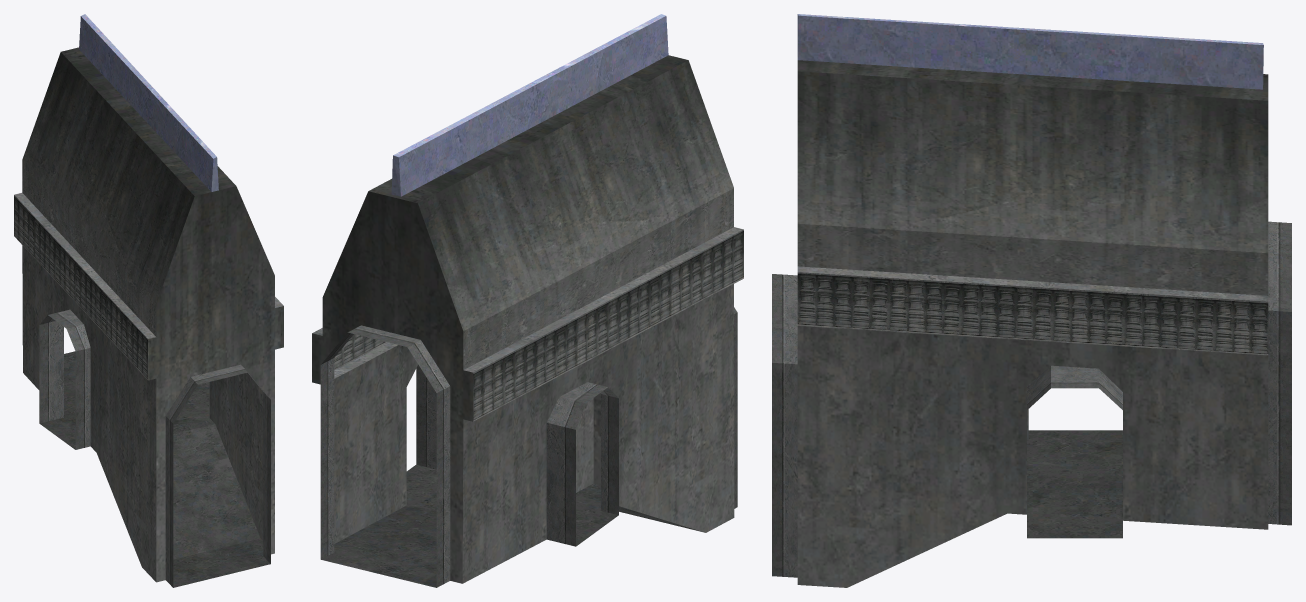
File: thm_yavn_jedi_enclave_dark_r20_hallwayb3_mesh.fbx
3 renders of one model, left to right at view 1: azimuth 30°, elevation 25°; view 2: azimuth 150°, elevation 25°; view 3: azimuth 270°, elevation 25°, orthographic. The views are drawn at different scales.
Parts seen in each view (by area): view 1: mesh_node; view 2: mesh_node; view 3: mesh_node.
Part boxes in pixels (<box>): mesh_node: <box>14,14,283,587</box>; mesh_node: <box>312,14,743,587</box>; mesh_node: <box>772,14,1291,587</box>.
Size of the model in its own units: 5.99 by 12.5 by 11.04.
